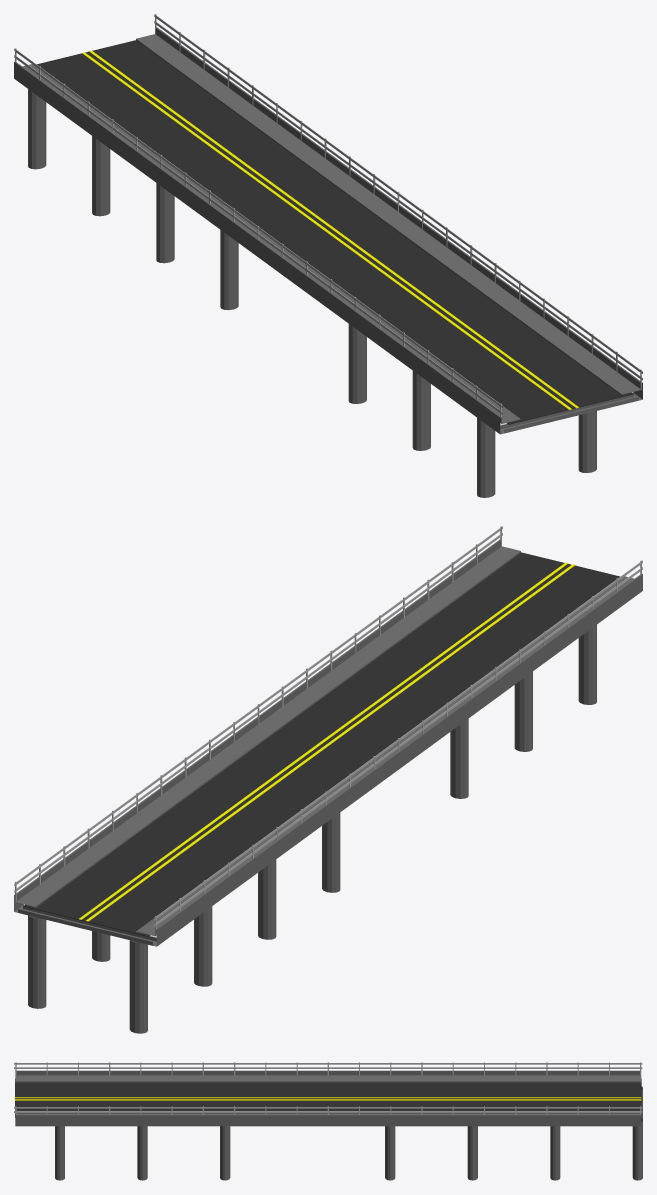
File: RoadSegment.fbx
The picture shows the model from 3 angles, top to bottom: view 1: azimuth 30°, elevation 25°; view 2: azimuth 150°, elevation 25°; view 3: azimuth 270°, elevation 25°; orthographic projection. The views are drawn at different scales.
Visible parts, largest first — view 1: Road, Material2_004, Material2_003, Rail, Lane_Marker_1, Lane_Marker; view 2: Road, Material2_004, Material2_003, Rail, Lane_Marker, Lane_Marker_1; view 3: Road, Material2_004, Material2_003, Rail, Lane_Marker, Lane_Marker_1.
Boxes of the visible parts, left/top/right/bottom form: Road: left=37, top=40, right=633, bottom=424; Material2_004: left=14, top=27, right=642, bottom=497; Material2_003: left=22, top=34, right=640, bottom=423; Rail: left=14, top=14, right=642, bottom=423; Lane_Marker_1: left=82, top=52, right=571, bottom=409; Lane_Marker: left=89, top=50, right=578, bottom=408; Road: left=23, top=552, right=619, bottom=936; Material2_004: left=14, top=539, right=642, bottom=1033; Material2_003: left=16, top=546, right=633, bottom=935; Rail: left=14, top=526, right=642, bottom=935; Lane_Marker: left=79, top=562, right=567, bottom=919; Lane_Marker_1: left=86, top=564, right=575, bottom=921; Road: left=15, top=1079, right=641, bottom=1117; Material2_004: left=15, top=1070, right=642, bottom=1180; Material2_003: left=15, top=1075, right=641, bottom=1114; Rail: left=14, top=1062, right=642, bottom=1114; Lane_Marker: left=14, top=1099, right=641, bottom=1100; Lane_Marker_1: left=14, top=1097, right=641, bottom=1098.
Size of the model in its own units: 5079 by 4089 by 30116.
